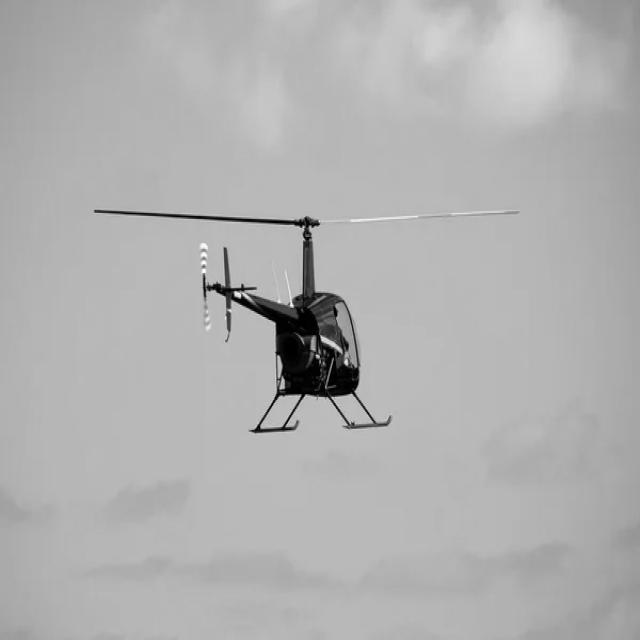Helicopter: (95, 211, 518, 434)
